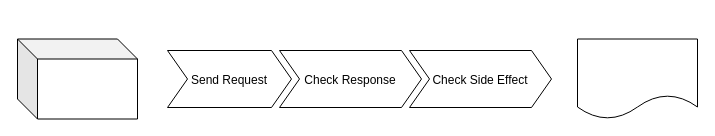
Image size: 715x136. Some labels were removed from this diagram. The centre of each missing label's shape, as x and y in pixels:
"Test Result" goes at point (637, 78).
"Testcases" goes at point (77, 78).
